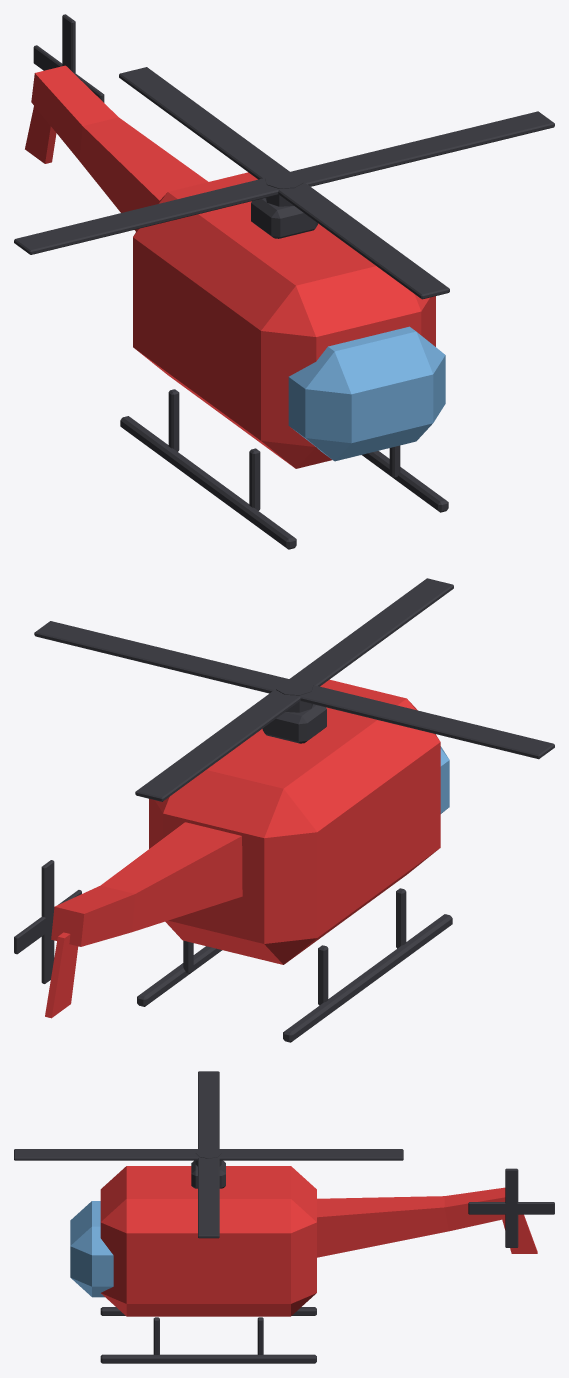
The model's file is Helicopter.fbx.
3 views of the same model, one above another, from view 1: azimuth 30°, elevation 25°; view 2: azimuth 150°, elevation 25°; view 3: azimuth 270°, elevation 25° (orthographic). The views are drawn at different scales.
Visible parts, largest first — view 1: Helicopter, Helicopter_Rotor, Helicopter_TailRotor; view 2: Helicopter, Helicopter_Rotor, Helicopter_TailRotor; view 3: Helicopter, Helicopter_Rotor, Helicopter_TailRotor.
Part boxes in pixels (x1=…): Helicopter: x1=25, y1=65, x2=448, y2=549; Helicopter_Rotor: x1=14, y1=67, x2=554, y2=299; Helicopter_TailRotor: x1=33, y1=14, x2=104, y2=102; Helicopter: x1=45, y1=679, x2=452, y2=1042; Helicopter_Rotor: x1=34, y1=578, x2=554, y2=801; Helicopter_TailRotor: x1=14, y1=860, x2=81, y2=983; Helicopter: x1=70, y1=1160, x2=537, y2=1363; Helicopter_Rotor: x1=14, y1=1071, x2=403, y2=1238; Helicopter_TailRotor: x1=468, y1=1168, x2=554, y2=1247.
Bounding box in the file's own units: 9 × 4.74 × 12.5.
1 material, 1 textured.
